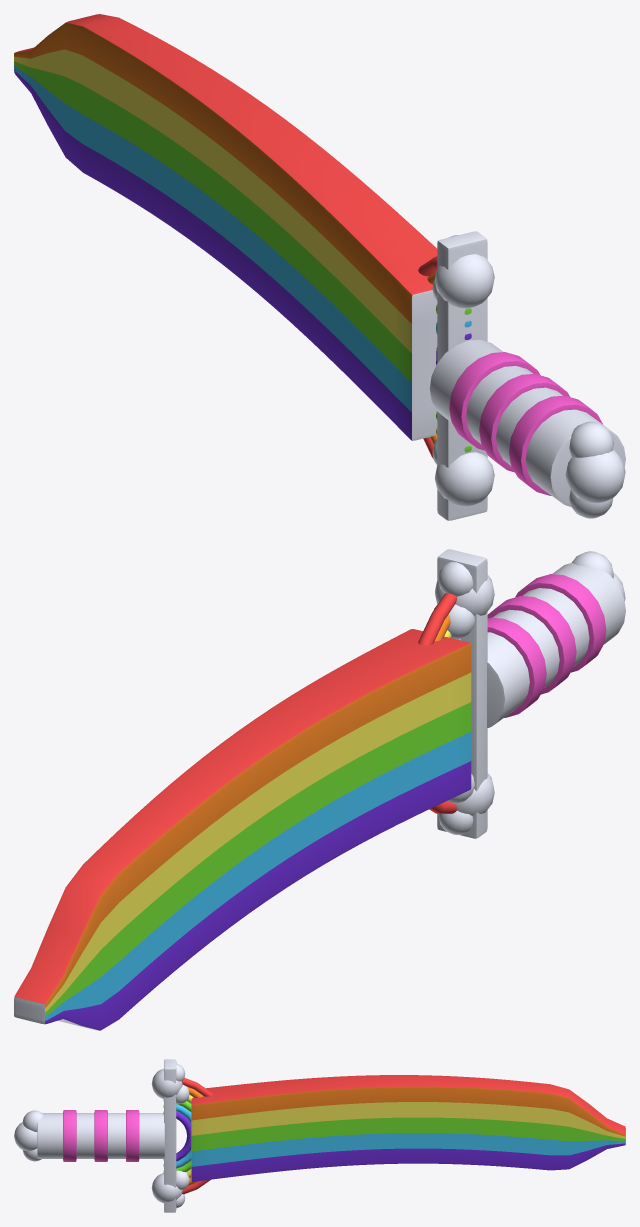
Rendered from Sword_DoubleRainbow.glb.
3 renders of one model, top to bottom at view 1: azimuth 30°, elevation 25°; view 2: azimuth 150°, elevation 25°; view 3: azimuth 270°, elevation 25°, orthographic. The views are drawn at different scales.
Visible parts, largest first — view 1: Sword_DoubleRainbow; view 2: Sword_DoubleRainbow; view 3: Sword_DoubleRainbow.
Boxes of the visible parts, left/top/right/bottom form: Sword_DoubleRainbow: left=14, top=14, right=625, bottom=520; Sword_DoubleRainbow: left=14, top=549, right=625, bottom=1030; Sword_DoubleRainbow: left=14, top=1059, right=625, bottom=1212.
Size of the model in its own units: 0.086 by 0.26 by 1.
1 material, 1 textured.
